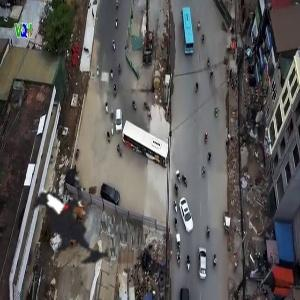drone: (4, 149, 154, 299)
